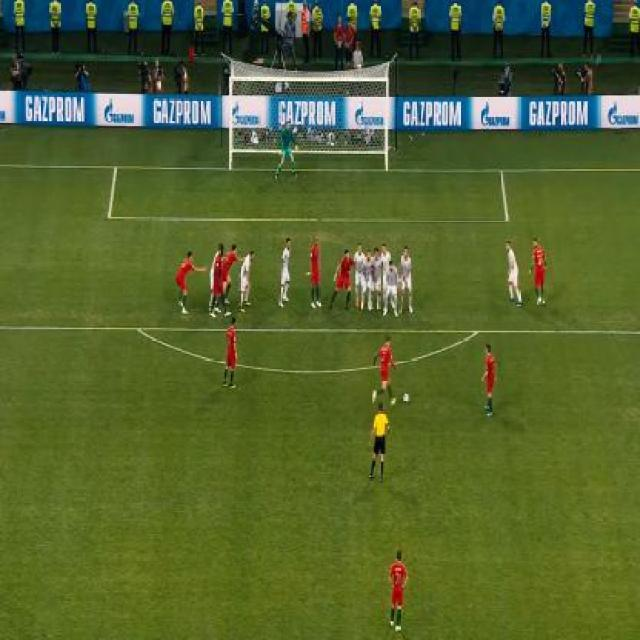ball: (402, 391, 411, 404)
player: (171, 248, 207, 314), (385, 545, 410, 633), (372, 336, 400, 410), (366, 402, 391, 484), (274, 118, 302, 180), (330, 249, 355, 315), (527, 236, 549, 309), (502, 241, 524, 309), (479, 342, 499, 416), (220, 317, 240, 391), (221, 243, 244, 303), (397, 245, 416, 314), (208, 242, 225, 316), (277, 236, 294, 309), (237, 251, 256, 316), (384, 257, 400, 319), (309, 239, 322, 313), (354, 242, 367, 311), (371, 247, 384, 310), (364, 246, 372, 312), (381, 241, 394, 266)
